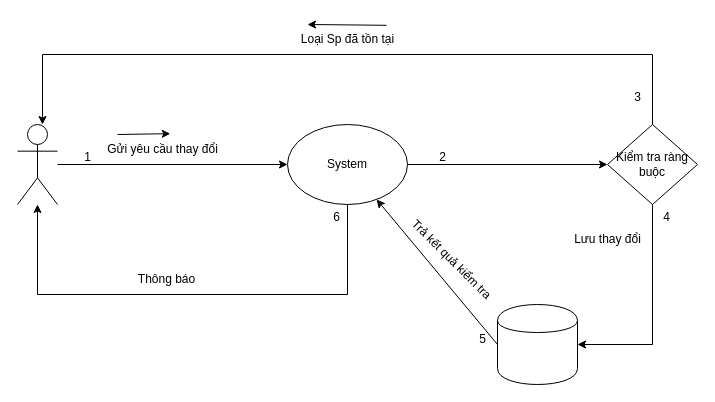
This 715x402 diagram has some shape labels left out. Here are the shapes that lost their labels. From the top down, the centre of each, then its label:
At point 37,164: "Admin".
At point 537,344: "Database".
